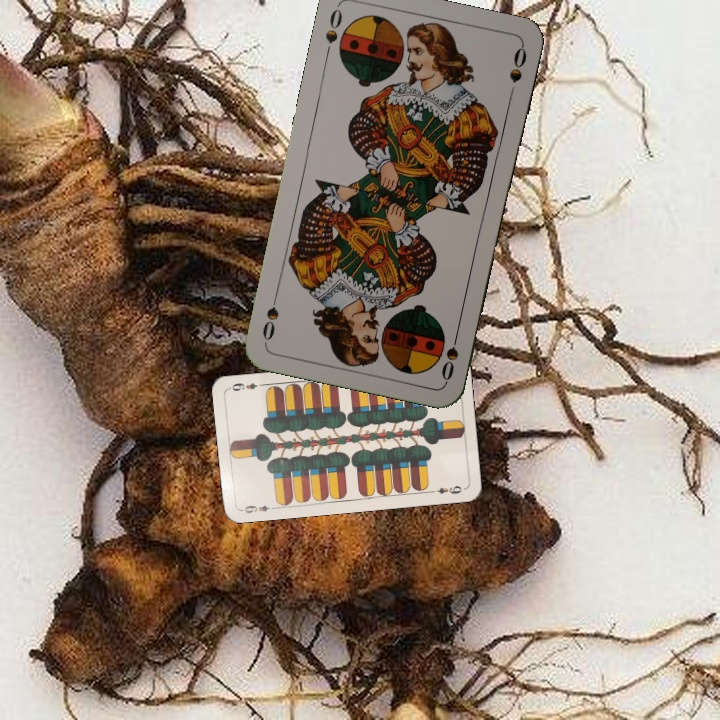E9: (238, 501, 278, 516)
SO: (437, 325, 462, 383), (321, 2, 345, 61)
